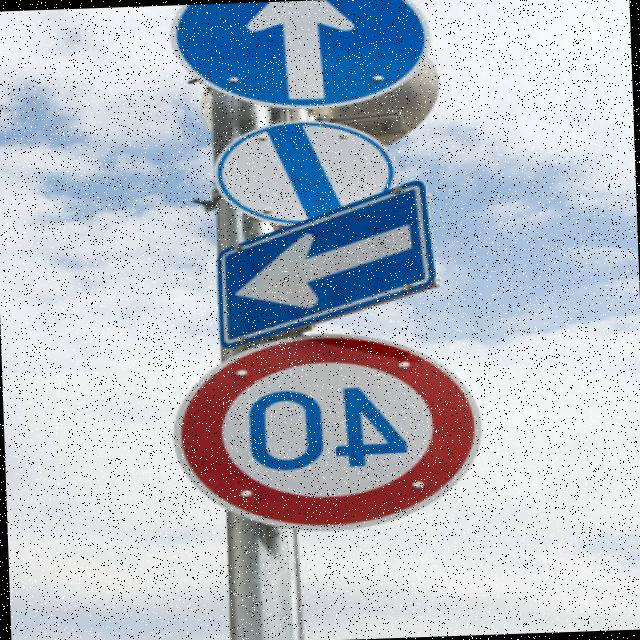compulsory_keep_right: (189, 182, 448, 349)
